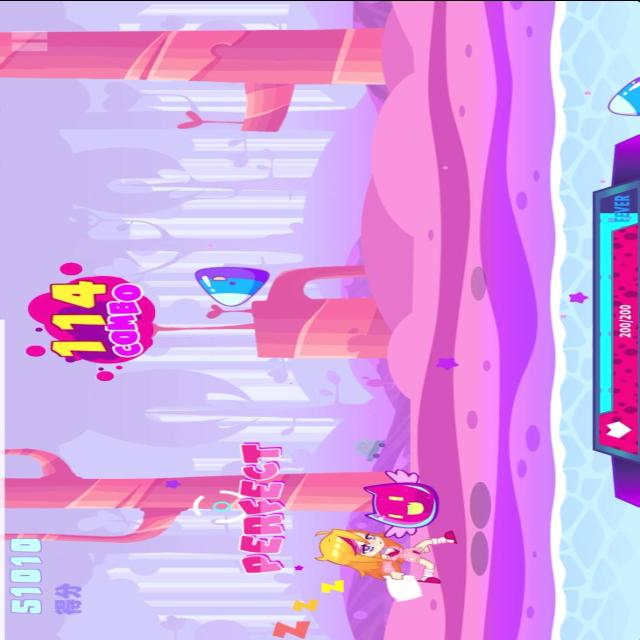jian: (190, 263, 273, 306)
mao: (358, 467, 440, 538)
